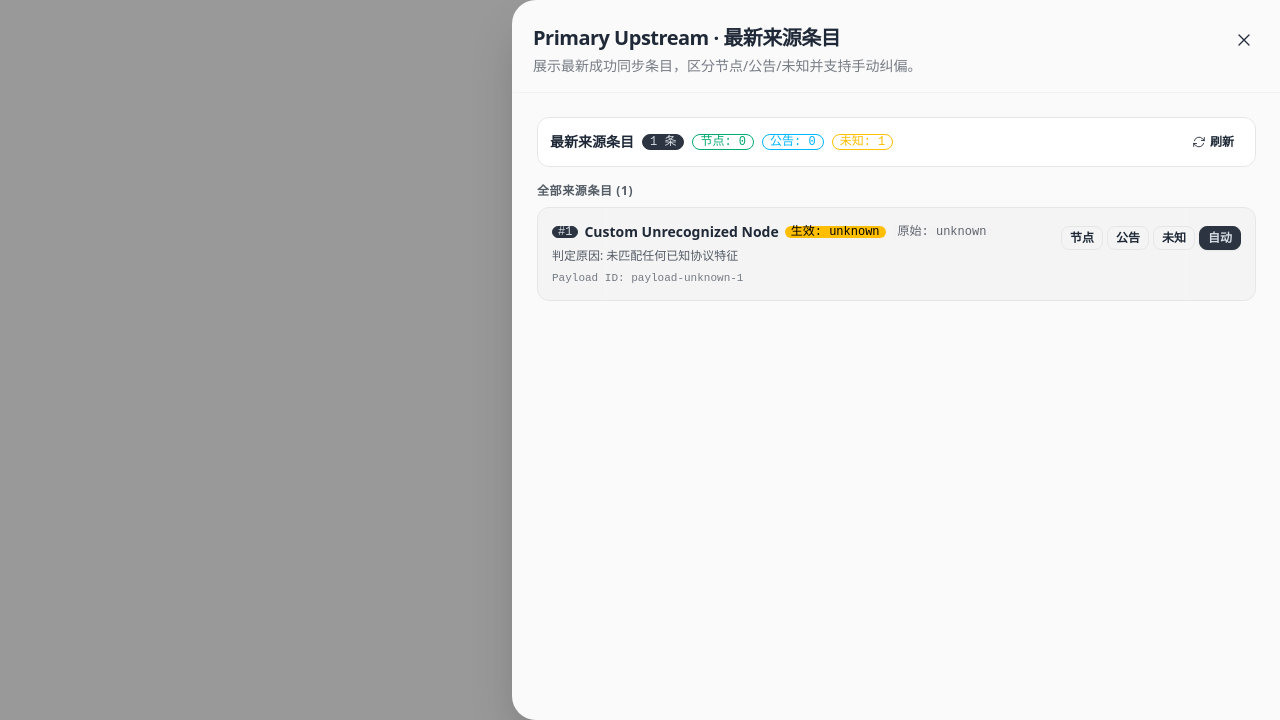
Subscription Source Entries & Classification Override Flow › allows correcting unknown entries to proxy with immediate inline override without nested confirmation modals
This screenshot has width=1280, height=720.
Click the button with test id "override-proxy-btn" at (1082, 238), box x1=1061 y1=226 x2=1103 y2=250
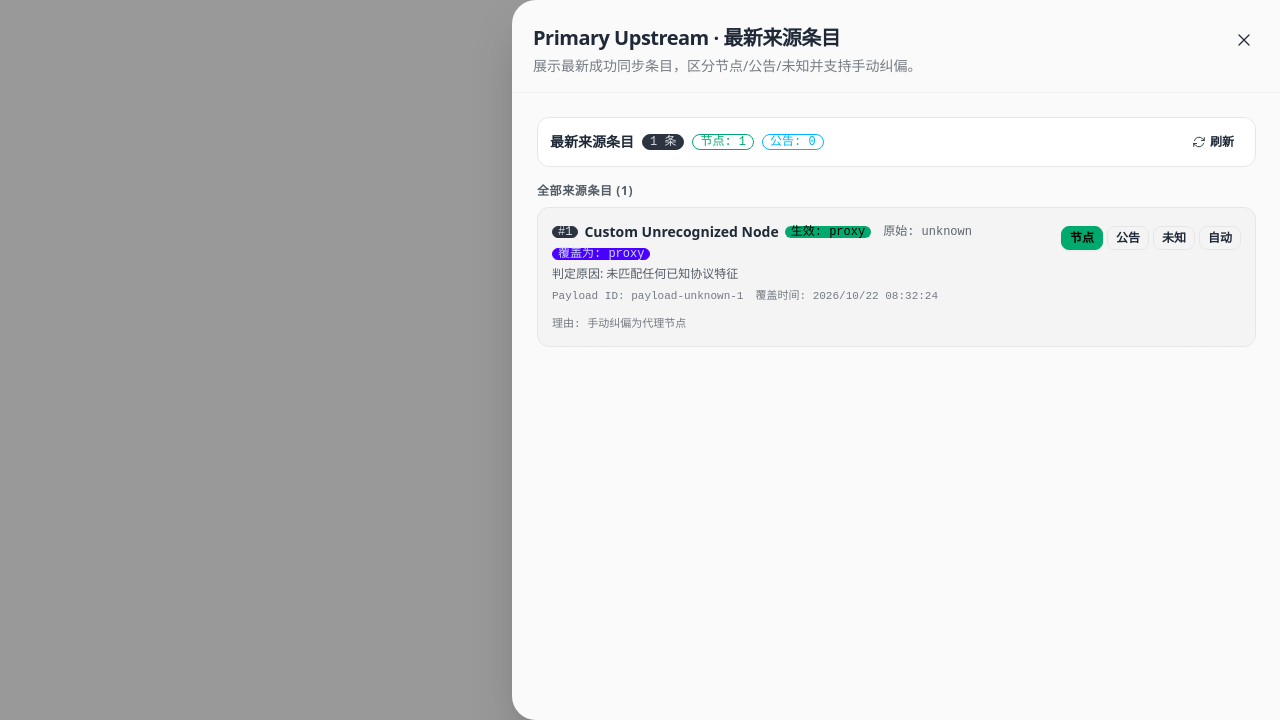
expect the text with test id "entry-effective-kind" reads "生效: proxy": met, box x1=791 y1=225 x2=865 y2=239
